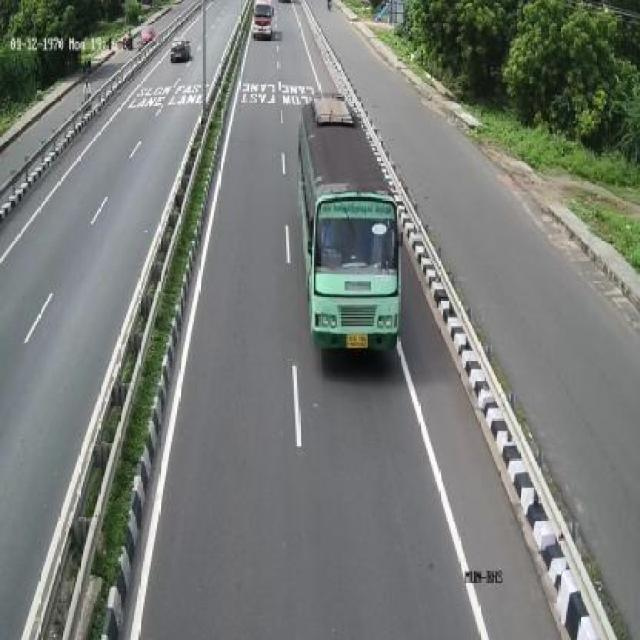car: (166, 36, 189, 66)
